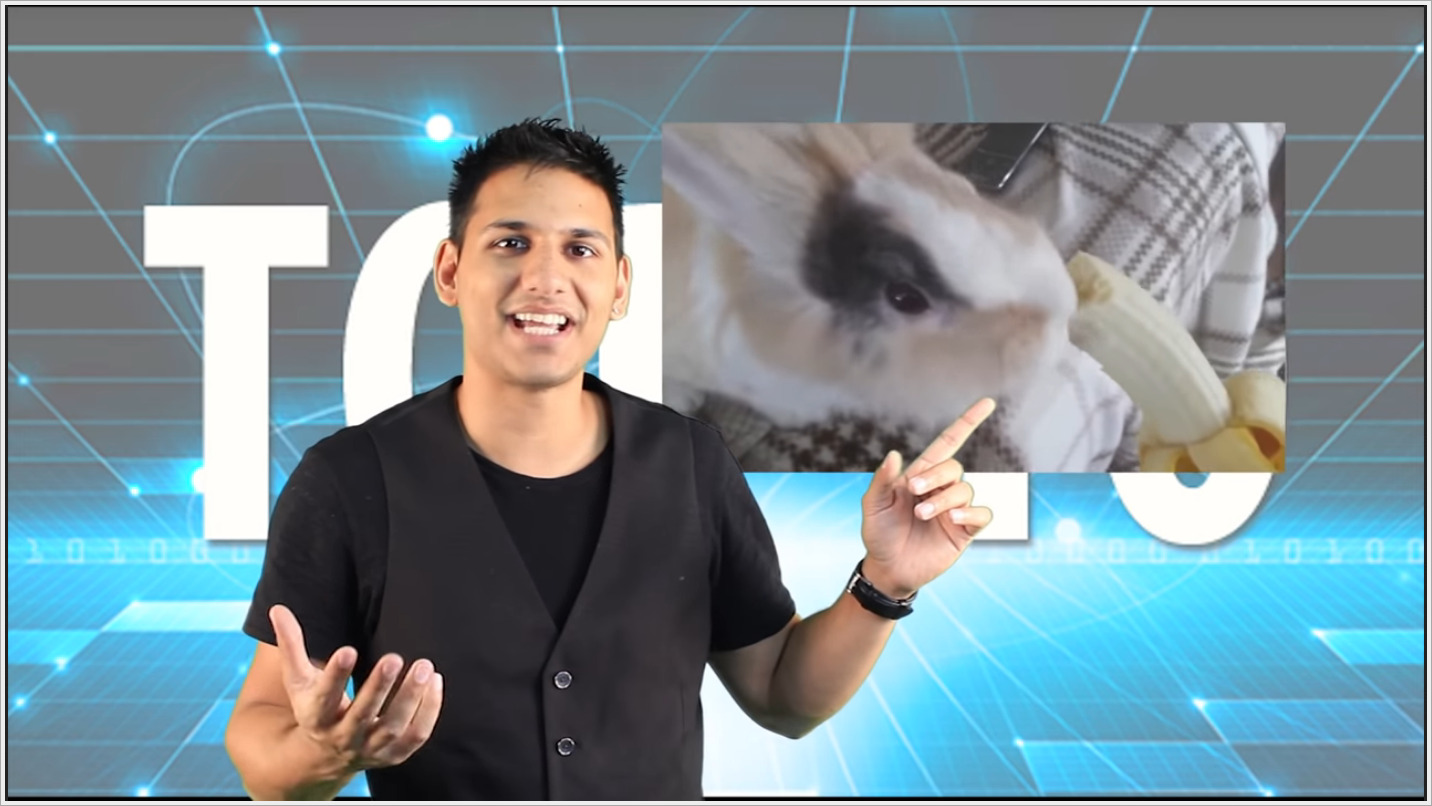hand: (851, 389, 1019, 601), (263, 593, 449, 774)
